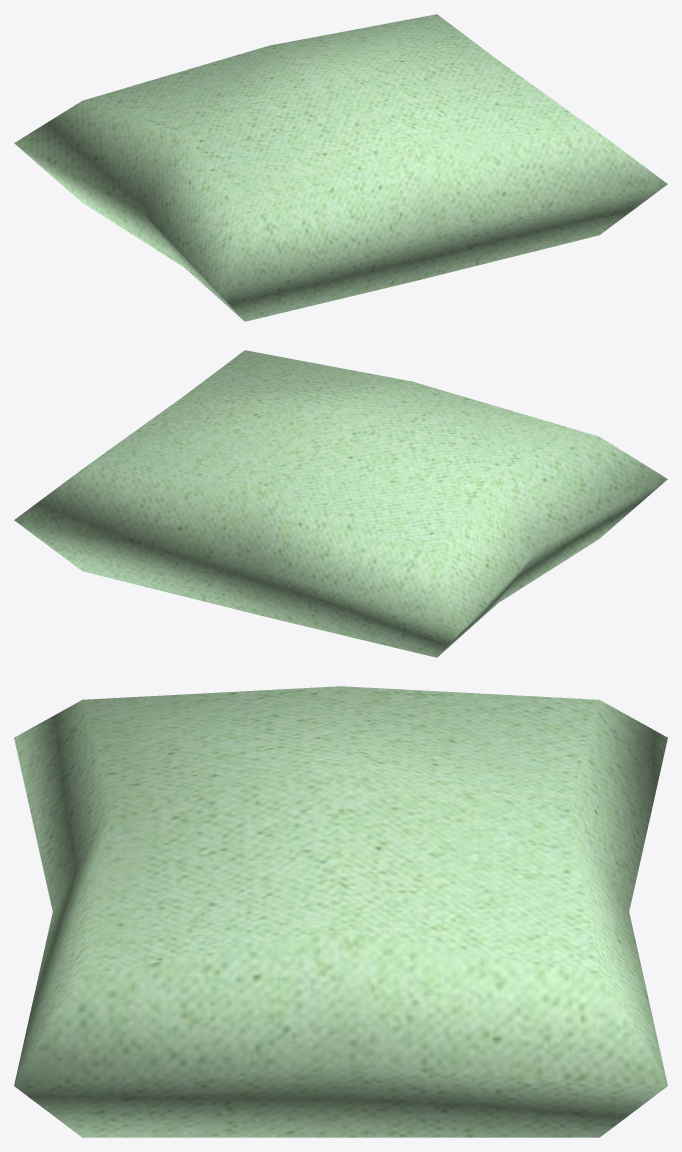
File: Pillow_07.glb
3 views of the same model, one above another, from view 1: azimuth 30°, elevation 25°; view 2: azimuth 150°, elevation 25°; view 3: azimuth 270°, elevation 25° (orthographic). The views are drawn at different scales.
Parts seen in each view (by area): view 1: Pillow_07; view 2: Pillow_07; view 3: Pillow_07.
Part boxes in pixels (x1,y1,x2,y2): Pillow_07: (14, 14, 667, 321); Pillow_07: (14, 350, 667, 657); Pillow_07: (14, 686, 667, 1137).
Size of the model in its own units: 0.6818 by 0.2587 by 0.5411.
Materials: 1 (1 with a texture image).
